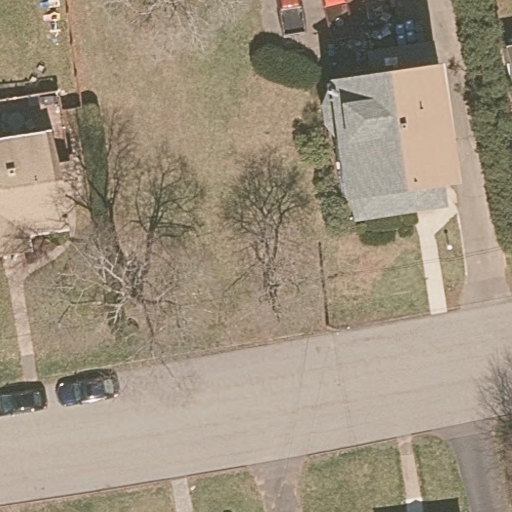DT: (320, 314, 355, 338)
